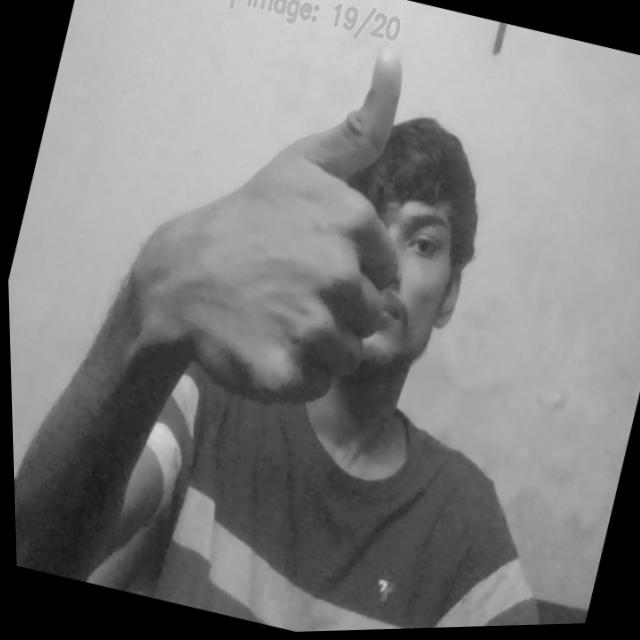Good: (127, 8, 450, 430)
